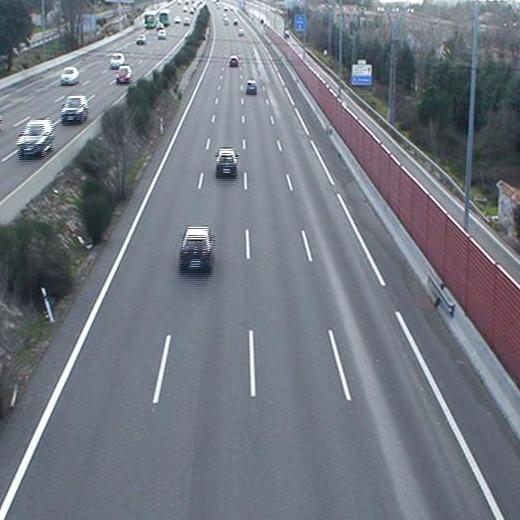car: (178, 224, 213, 273), (213, 147, 239, 178), (244, 79, 259, 96), (227, 56, 242, 69)
